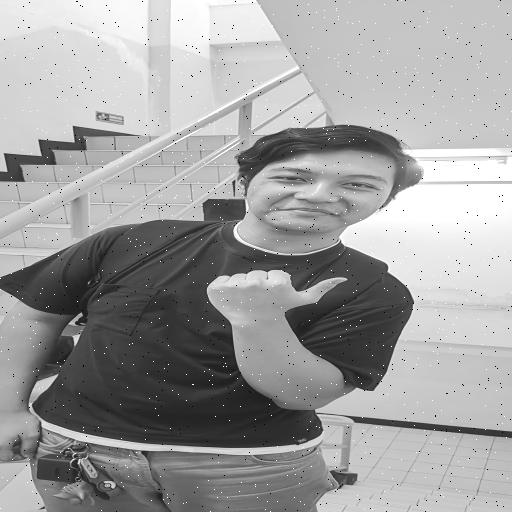back: (187, 265, 364, 328)
